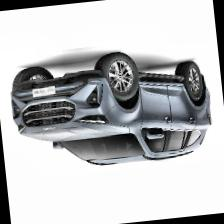NON-EV: (8, 44, 218, 182)
